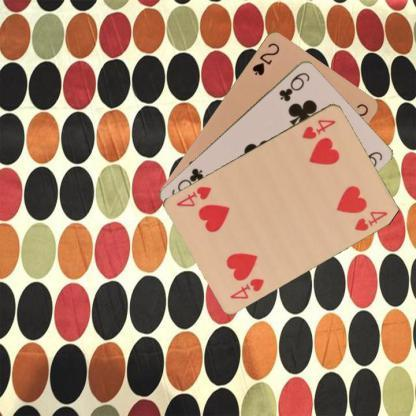2s: (249, 39, 281, 77)
4h: (228, 275, 265, 300), (300, 116, 338, 140)
6c: (276, 70, 312, 102)
